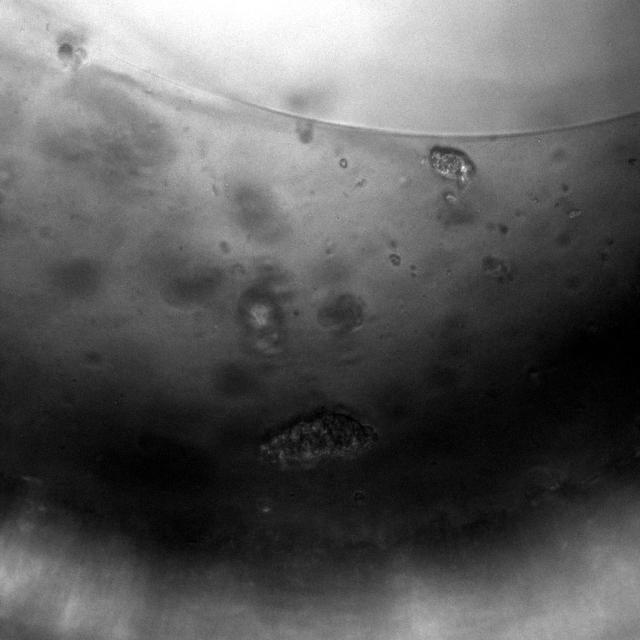organoid: (261, 411, 377, 467), (429, 146, 474, 183)
